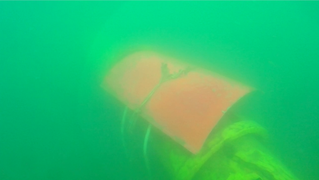leak: (96, 48, 250, 155)
pipe: (121, 104, 300, 180), (79, 24, 152, 83)
